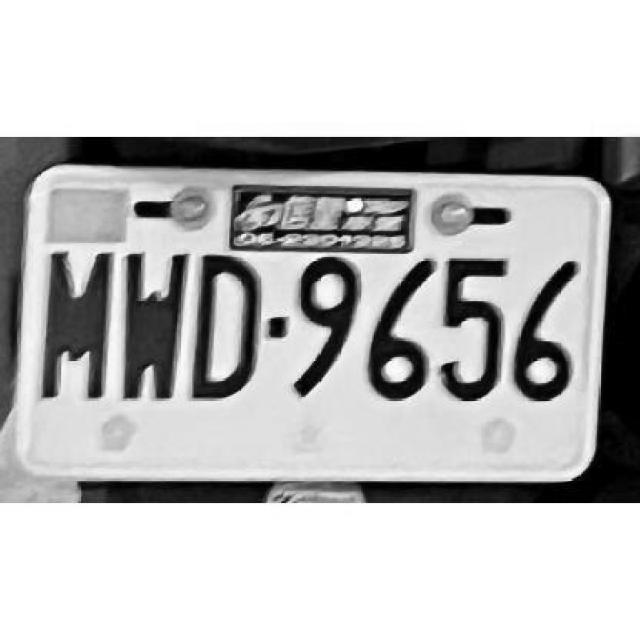-: (268, 314, 288, 338)
5: (437, 249, 509, 409)
6: (362, 252, 436, 411), (508, 254, 580, 409)
9: (289, 252, 360, 397)
D: (191, 246, 263, 399)
M: (40, 245, 114, 408)
W: (114, 246, 191, 411)
